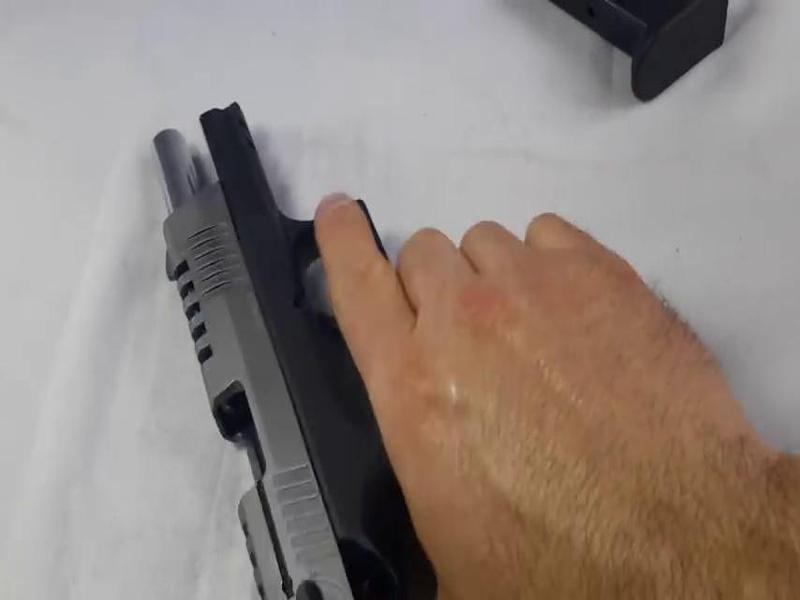Pistola: (123, 73, 484, 600)
